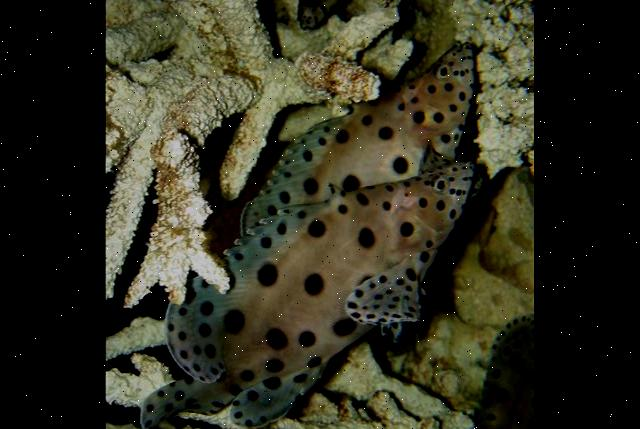Mulut: (446, 150, 493, 208), (431, 26, 488, 68), (291, 0, 336, 41)
Sirip Dada: (338, 260, 434, 336)
Sirip Ekor: (132, 369, 228, 429)
Sirip Punggung: (159, 200, 320, 385), (234, 105, 351, 240), (229, 360, 316, 429)
